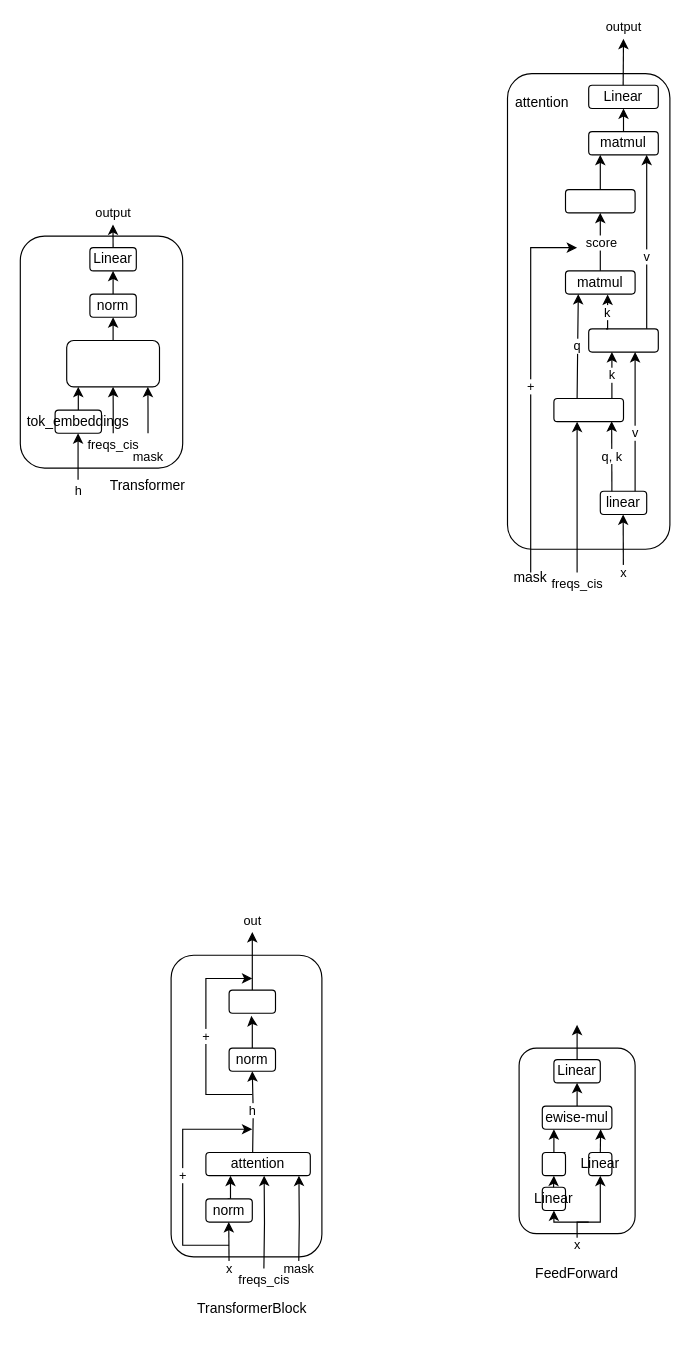
Some shapes in this 690 by 1347 pixel diagram are drawn without their labels. Each missing label, with the centre of its shape:
feed_forward: point 252,1001
kvCache: point 623,340
rotaryEmb: point 588,409
silu: point 553,1163
softmax: point 599,200
TransformerBlock x n: point 113,363
